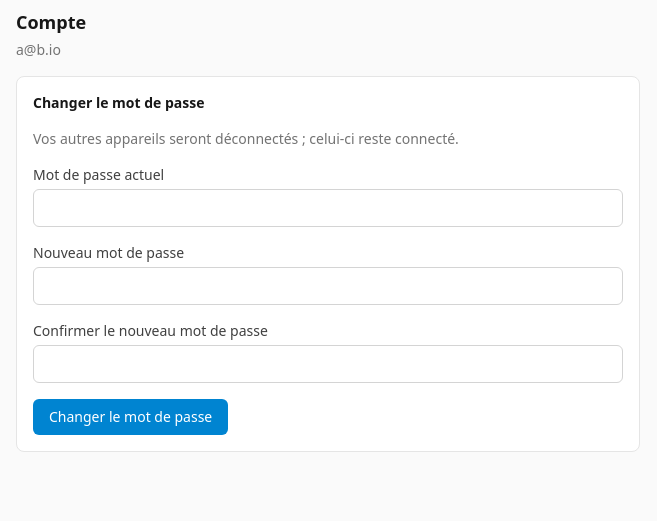
Test case: <AccountPanel /> › change le mot de passe et vide le formulaire
Type "old-password" into the password field labelled "Mot de passe actuel".
click(328, 208); type("old-password")  # box [33, 189, 623, 227]
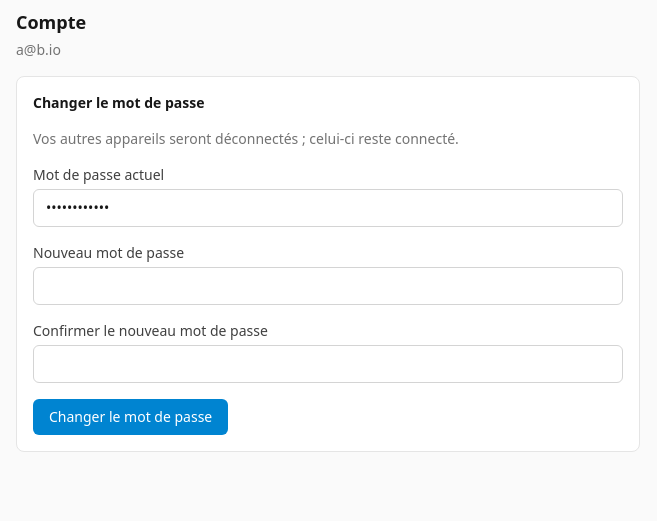
Type "new-password" into the password field labelled "Nouveau mot de passe".
click(328, 286); type("new-password")  # box [33, 267, 623, 305]
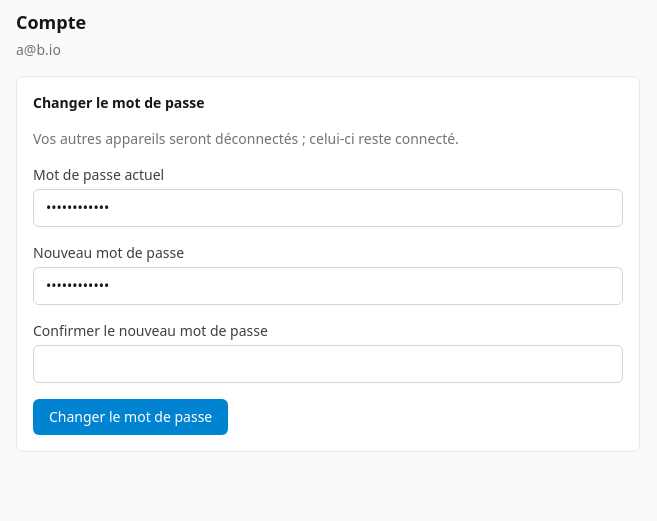
Type "new-password" into the password field labelled "Confirmer le nouveau mot de passe".
click(328, 364); type("new-password")  # box [33, 345, 623, 383]
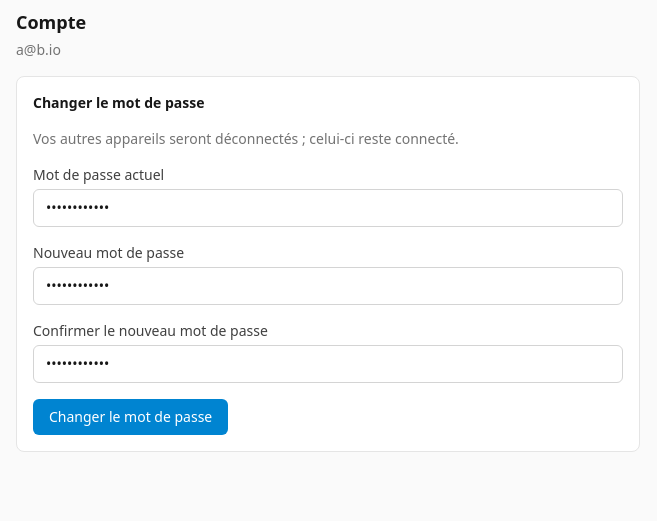
Click the button "Changer le mot de passe".
click(131, 417)  # box [33, 399, 228, 435]
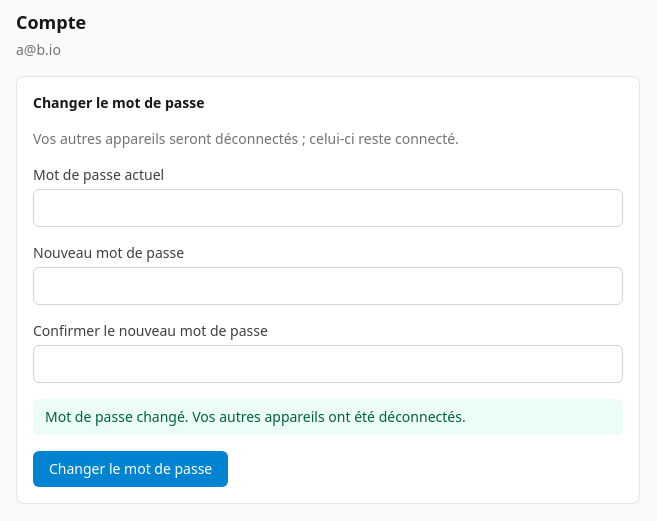
Now the message shows "autres appareils ont été déconnectés", box [45, 407, 466, 426]
Now the password field labelled "Mot de passe actuel" is empty, box [33, 189, 623, 227]
